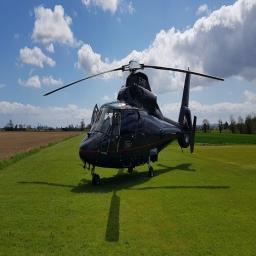helicopter: (44, 56, 228, 193)
